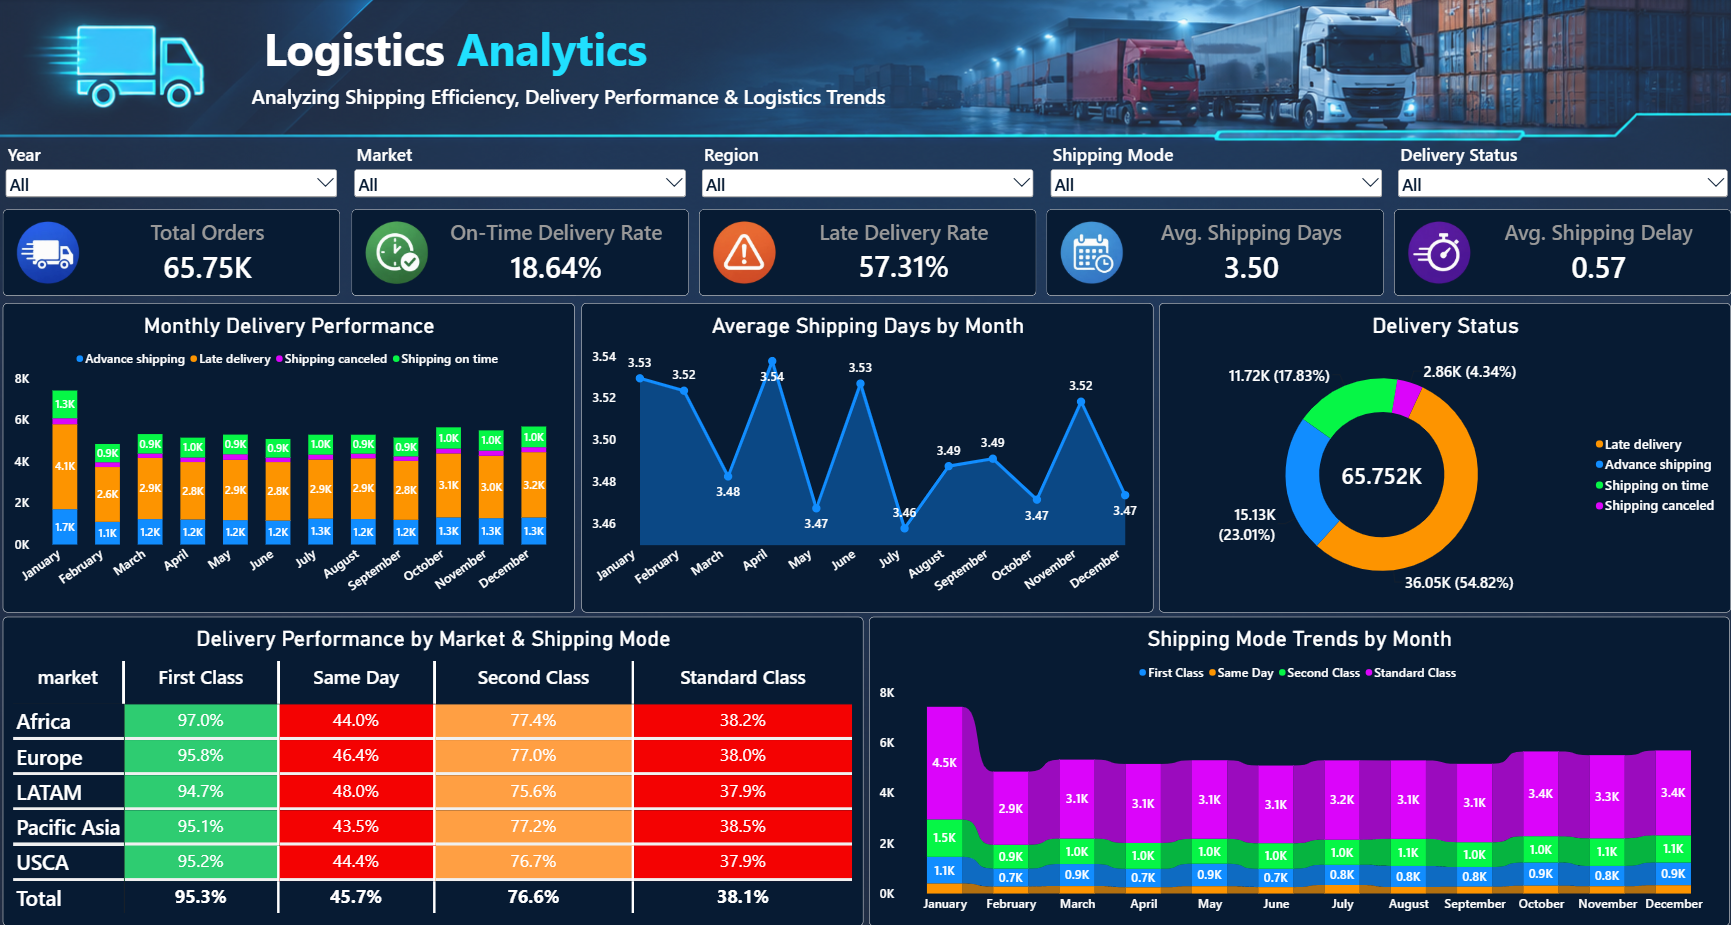

The dashboard page shown, as its layout file describes it:
{"tool":"powerbi","page":{"name":"Page 4","canvas":[2800,1500],"ordinal":3},"visuals":[{"type":"columnChart","title":"Monthly Delivery Performance","fields":{"Category":["gold fact_order_items.calendar_date.Variation.Date Hierarchy.Month"],"Series":["gold fact_order_items.delivery_status"],"Y":["Count(gold fact_order_items.order_id)"]},"box":[6.4,491.8,924,500],"z":0},{"type":"lineChart","title":"Average Shipping Days by Month","fields":{"Category":["gold fact_order_items.calendar_date.Variation.Date Hierarchy.Month"],"Y":["Avg(gold fact_order_items.actual_shipping_days)"]},"box":[940.6,491.8,924,500],"z":1000},{"type":"donutChart","title":"Delivery Status","fields":{"Category":["gold fact_order_items.delivery_status"],"Y":["Count(gold fact_order_items.order_id)"]},"box":[1874.8,491.8,924,500],"z":2000},{"type":"ribbonChart","title":"Shipping Mode Trends by Month","fields":{"Category":["gold fact_order_items.calendar_date.Variation.Date Hierarchy.Month"],"Y":["Count(gold fact_order_items.order_id)"],"Series":["gold fact_order_items.shipping_mode"]},"box":[1405.5,999.6,1390,500],"z":3000},{"type":"pivotTable","title":"Delivery Performance by Market & Shipping Mode","fields":{"Rows":["gold fact_order_items.market"],"Columns":["gold fact_order_items.shipping_mode"],"Values":["gold fact_order_items.late_delivery_risk_%"]},"box":[6.1,999.6,1390,500],"z":4000},{"type":"cardVisual","fields":{"Data":["Count(gold fact_order_items.order_id)"]},"box":[6.7,341.9,545,140],"z":5000},{"type":"cardVisual","fields":{"Data":["gold fact_order_items.On-Time Delivery %"]},"box":[568.5,342.1,545,140],"z":6000},{"type":"cardVisual","fields":{"Data":["gold fact_order_items.Late Delivery %"]},"box":[1130.4,342.1,545,140],"z":7000},{"type":"cardVisual","fields":{"Data":["Avg(gold fact_order_items.actual_shipping_days)"]},"box":[1692.2,342.1,545,140],"z":8000},{"type":"cardVisual","fields":{"Data":["gold fact_order_items.Avg Shipping Delay"]},"box":[2254.1,342.1,545,140],"z":9000},{"type":"slicer","fields":{"Values":["gold fact_order_items.calendar_date.Variation.Date Hierarchy.Year"]},"box":[6.4,233,545,115],"z":10000},{"type":"slicer","fields":{"Values":["gold fact_order_items.market"]},"box":[568.9,233,545,115],"z":11000},{"type":"slicer","fields":{"Values":["gold fact_order_items.region"]},"box":[1131.4,233,545,115],"z":12000},{"type":"slicer","fields":{"Values":["gold fact_order_items.shipping_mode"]},"box":[1693.9,233,545,115],"z":13000},{"type":"slicer","fields":{"Values":["gold fact_order_items.delivery_status"]},"box":[2256.4,233,542,115],"z":14000},{"type":"textbox","box":[407.9,32.3,706.8,105],"z":14001},{"type":"textbox","box":[408.7,137,1035.3,56.1],"z":14002}]}

Visuals, with their boxes in screenshot pixels (x1, y1, x2, y2), scaled from the page's 2800x1500 canvas onto the 1731x925 screenshot:
"Monthly Delivery Performance" columnChart: <region>4, 303, 575, 612</region>
"Average Shipping Days by Month" lineChart: <region>581, 303, 1153, 612</region>
"Delivery Status" donutChart: <region>1159, 303, 1730, 612</region>
"Shipping Mode Trends by Month" ribbonChart: <region>869, 616, 1728, 924</region>
"Delivery Performance by Market & Shipping Mode" pivotTable: <region>4, 616, 863, 924</region>
cardVisual - Count(gold fact_order_items.order_id): <region>4, 211, 341, 297</region>
cardVisual - gold fact_order_items.On-Time Delivery %: <region>351, 211, 688, 297</region>
cardVisual - gold fact_order_items.Late Delivery %: <region>699, 211, 1036, 297</region>
cardVisual - Avg(gold fact_order_items.actual_shipping_days): <region>1046, 211, 1383, 297</region>
cardVisual - gold fact_order_items.Avg Shipping Delay: <region>1394, 211, 1730, 297</region>
slicer - gold fact_order_items.calendar_date.Variation.Date Hierarchy.Year: <region>4, 144, 341, 215</region>
slicer - gold fact_order_items.market: <region>352, 144, 689, 215</region>
slicer - gold fact_order_items.region: <region>699, 144, 1036, 215</region>
slicer - gold fact_order_items.shipping_mode: <region>1047, 144, 1384, 215</region>
slicer - gold fact_order_items.delivery_status: <region>1395, 144, 1730, 215</region>
textbox: <region>252, 20, 689, 85</region>
textbox: <region>253, 84, 893, 119</region>
